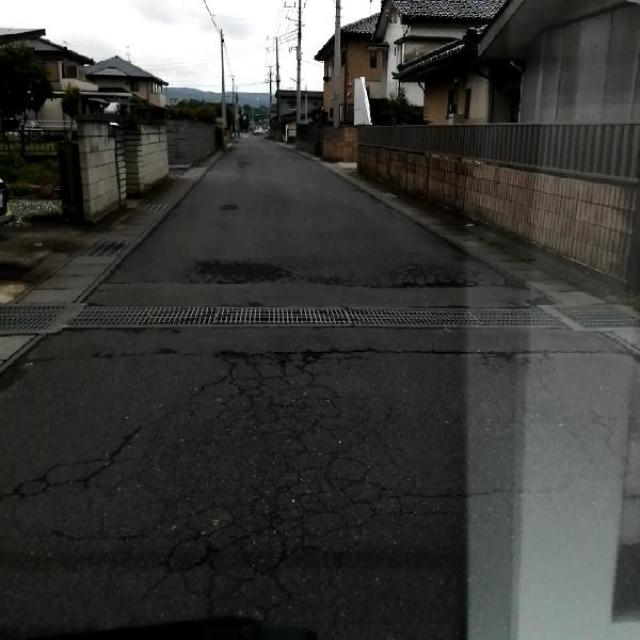Crack: (203, 404, 445, 640), (148, 313, 626, 417), (0, 367, 178, 535)
Pothole: (202, 241, 277, 297), (399, 246, 466, 301)
